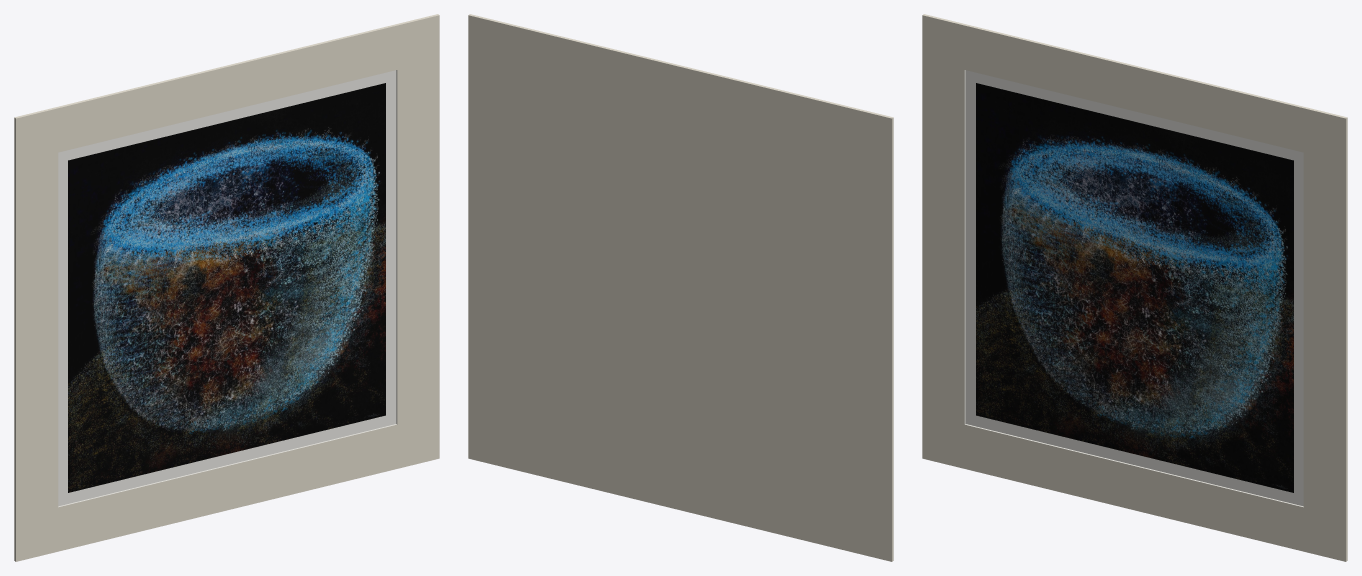
File: va354_moyen_passe-partout.glb
The picture shows the model from 3 angles, left to right: view 1: azimuth 30°, elevation 25°; view 2: azimuth 150°, elevation 25°; view 3: azimuth 330°, elevation 25°; orthographic projection.
Visible parts, largest first — view 1: va354_moyen_passe-partout; view 2: va354_moyen_passe-partout; view 3: va354_moyen_passe-partout.
Boxes of the visible parts, x1=… form: va354_moyen_passe-partout: x1=14, y1=14, x2=439, y2=561; va354_moyen_passe-partout: x1=468, y1=14, x2=893, y2=561; va354_moyen_passe-partout: x1=922, y1=14, x2=1347, y2=561.
Size of the model in its own units: 0.8 by 0.8 by 0.0055.
4 materials, 1 textured.
